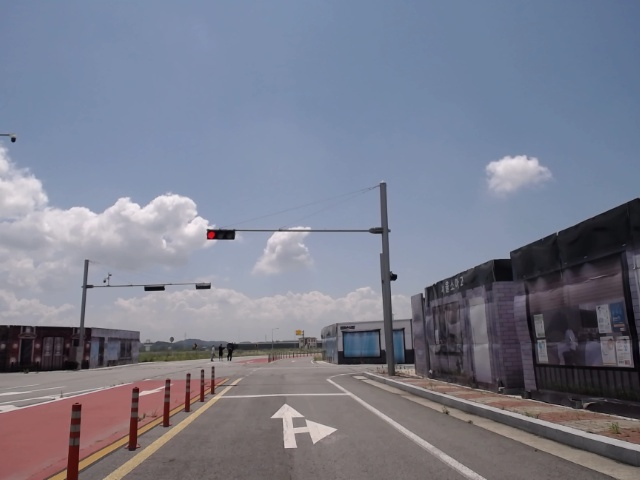red_3: (206, 230, 236, 241)
